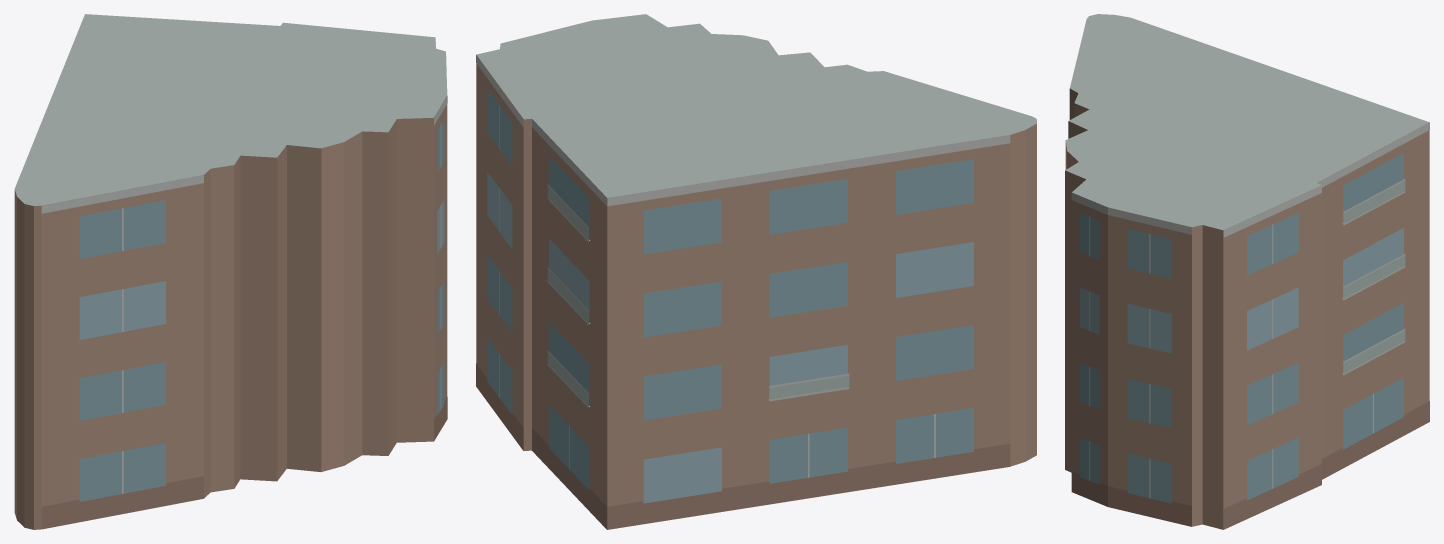
File: survey-upis-32772778.glb
The picture shows the model from 3 angles, left to right: view 1: azimuth 30°, elevation 25°; view 2: azimuth 150°, elevation 25°; view 3: azimuth 270°, elevation 25°; orthographic projection. The views are drawn at different scales.
Parts seen in each view (by area): view 1: survey-upis-32772778.tmp; view 2: survey-upis-32772778.tmp; view 3: survey-upis-32772778.tmp.
Part boxes in pixels (x1=…): survey-upis-32772778.tmp: x1=14, y1=14, x2=447, y2=529; survey-upis-32772778.tmp: x1=476, y1=14, x2=1036, y2=529; survey-upis-32772778.tmp: x1=1065, y1=14, x2=1429, y2=529.
Size of the model in its own units: 14.87 by 9.6 by 10.59.
